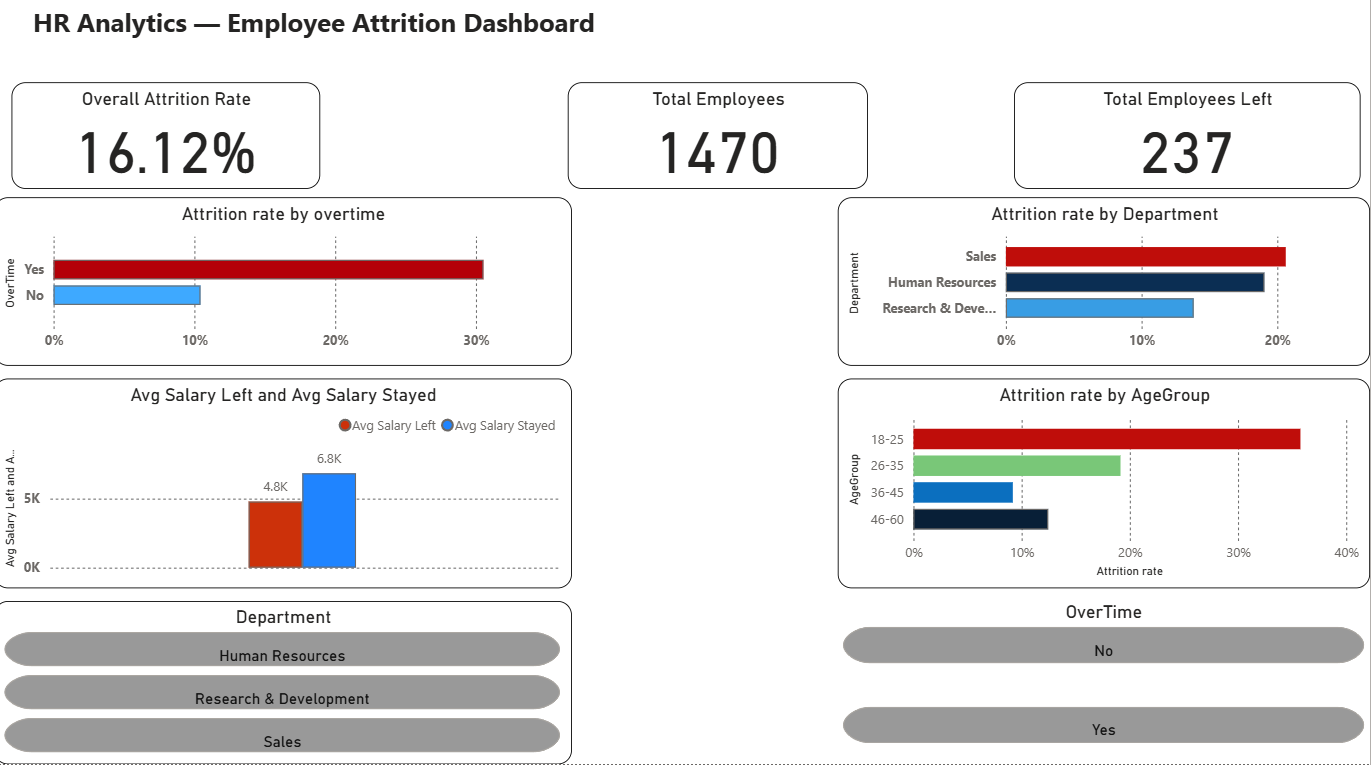

Layout of this report page (visuals, bound fields, positions):
{"tool":"powerbi","page":{"name":"Page 1","canvas":[1280,720],"ordinal":0},"visuals":[{"type":"card","title":"Overall Attrition Rate","fields":{"Values":["employees.Attrition rate"]},"box":[16.3,84.9,287.2,98.8],"z":0},{"type":"clusteredBarChart","fields":{"Y":["employees.Attrition rate"],"Category":["employees.Department"]},"box":[784.9,191.9,495.4,157],"z":1000},{"type":"clusteredBarChart","title":"Attrition rate by overtime","fields":{"Category":["employees.OverTime"],"Y":["employees.Attrition rate"]},"box":[0,191.9,537.2,157],"z":2000},{"type":"card","title":"Total Employees","fields":{"Values":["employees.Total Employees"]},"box":[533.7,84.9,279.1,98.8],"z":3000},{"type":"card","title":"Total Employees Left","fields":{"Values":["employees.Employees Left"]},"box":[948.8,84.9,322.1,98.8],"z":4000},{"type":"clusteredBarChart","fields":{"Y":["employees.Attrition rate"],"Category":["employees.AgeGroup"]},"box":[784.9,360.5,495.4,195.3],"z":5000},{"type":"clusteredColumnChart","fields":{"Y":["employees.Avg Salary Left","employees.Avg Salary Stayed"]},"box":[0,360.5,537.2,195.3],"z":6000},{"type":"advancedSlicerVisual","fields":{"Values":["employees.Department"]},"box":[0,567.4,537.2,152.3],"z":7000},{"type":"advancedSlicerVisual","fields":{"Values":["employees.OverTime"]},"box":[784.9,567.4,495.4,138.4],"z":8000},{"type":"textbox","box":[31.4,8.1,551.2,51.2],"z":9000}]}

Visuals, with their boxes in screenshot pixels (x1, y1, x2, y2), scaled from the page's 1280x720 canvas onto the 1372x765 screenshot:
"Overall Attrition Rate" card: pyautogui.locateOnScreen(17, 90, 325, 195)
clusteredBarChart - employees.Attrition rate x employees.Department: pyautogui.locateOnScreen(841, 204, 1371, 371)
"Attrition rate by overtime" clusteredBarChart: pyautogui.locateOnScreen(0, 204, 576, 371)
"Total Employees" card: pyautogui.locateOnScreen(572, 90, 871, 195)
"Total Employees Left" card: pyautogui.locateOnScreen(1017, 90, 1362, 195)
clusteredBarChart - employees.Attrition rate x employees.AgeGroup: pyautogui.locateOnScreen(841, 383, 1371, 591)
clusteredColumnChart - employees.Avg Salary Left x employees.Avg Salary Stayed: pyautogui.locateOnScreen(0, 383, 576, 591)
advancedSlicerVisual - employees.Department: pyautogui.locateOnScreen(0, 603, 576, 764)
advancedSlicerVisual - employees.OverTime: pyautogui.locateOnScreen(841, 603, 1371, 750)
textbox: pyautogui.locateOnScreen(34, 9, 624, 63)
